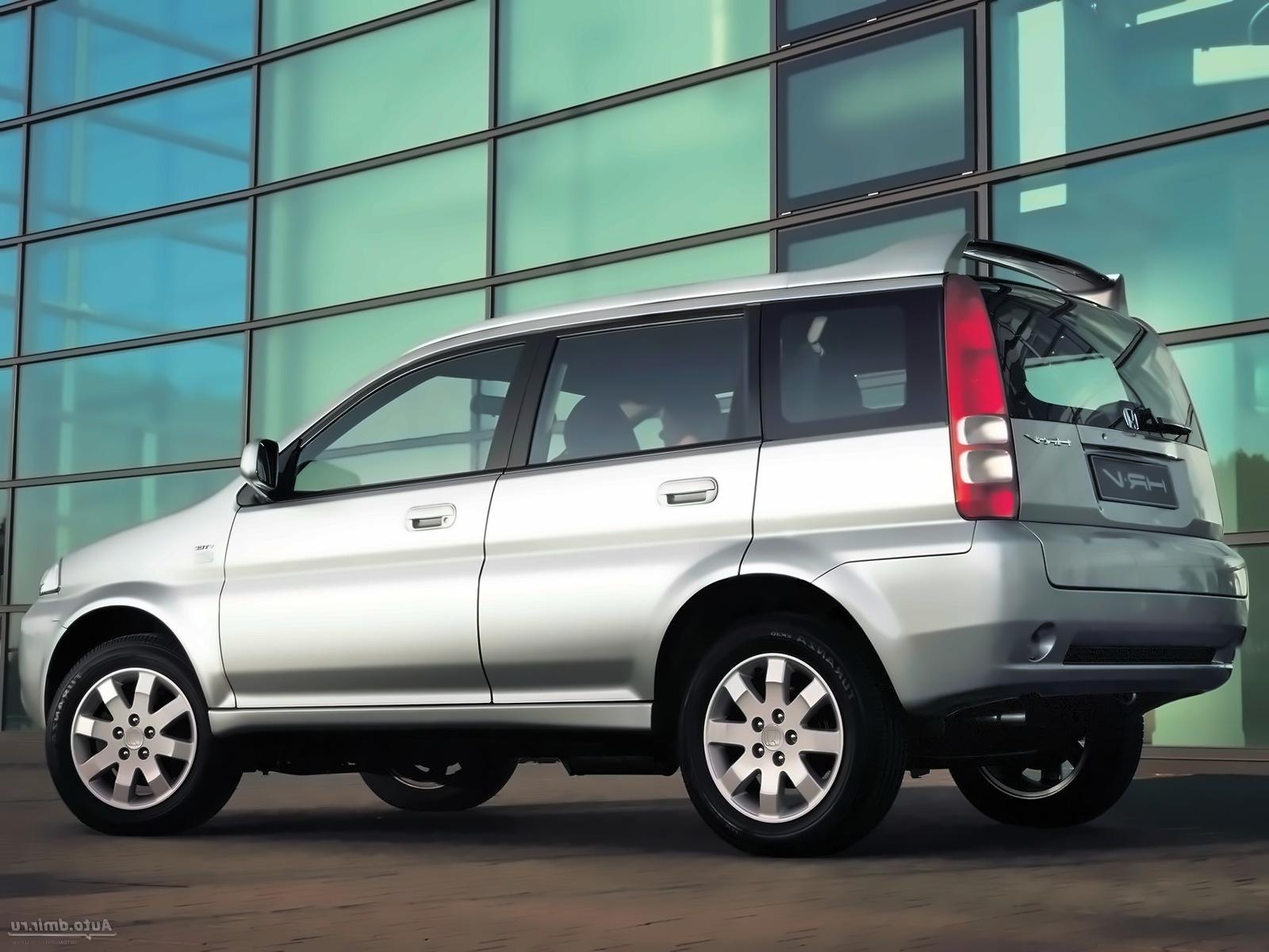Car boot: (974, 251, 1265, 605)
Fender - -F-L-: (48, 457, 256, 710)
Fender - -R-L-: (737, 408, 976, 593)
Front bumper: (0, 592, 72, 739)
Headlight - -L-: (29, 544, 56, 595)
Passenger-s door - -F-L-: (220, 297, 538, 770)
Passenger-s door - -R-L-: (462, 252, 766, 762)
Rear bumper: (806, 522, 1253, 722)
Rear light - -L-: (936, 260, 1022, 528)
Side bumper - -L-: (195, 670, 665, 776)
Side mirror - -L-: (234, 437, 294, 509)
